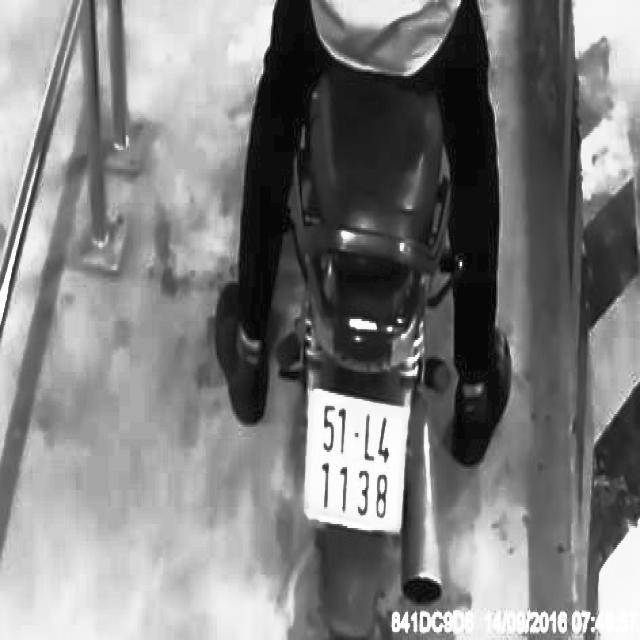license_plate: (313, 379, 401, 547)
